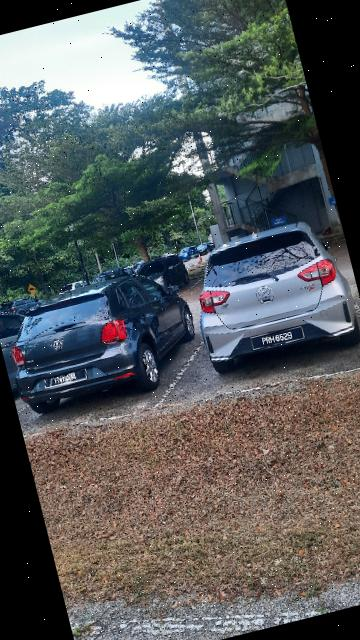License_Plate: (246, 319, 312, 356), (46, 366, 90, 390)
car: (1, 250, 239, 423), (181, 208, 360, 386)
